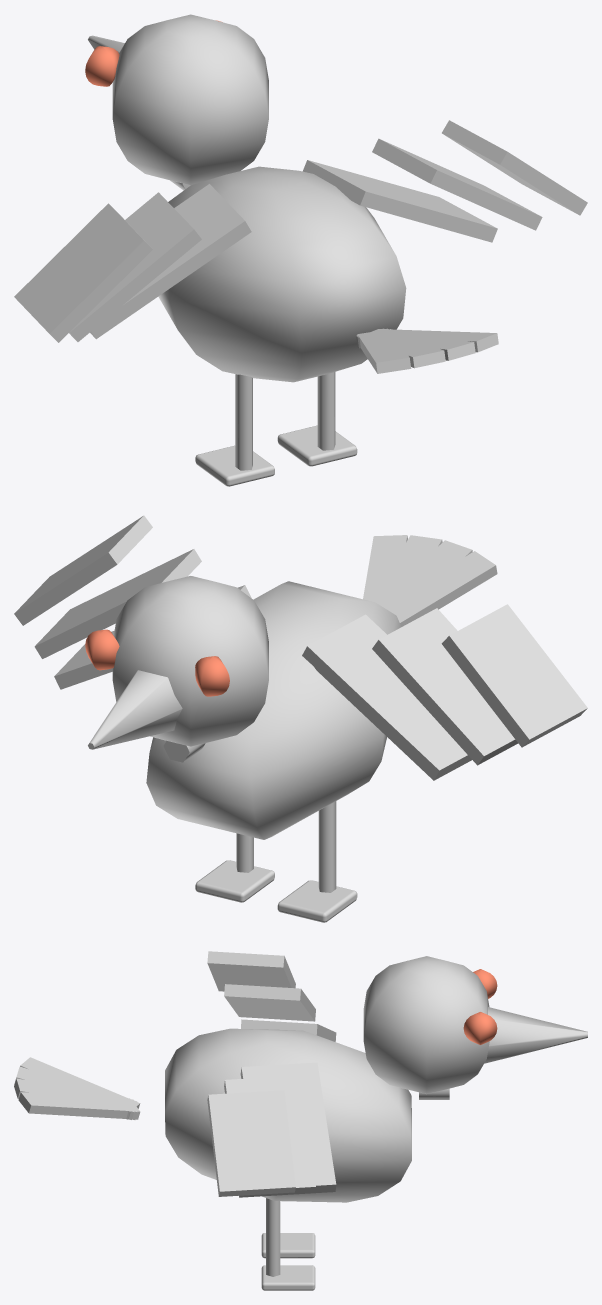
File: ScrapCrow.glb
The picture shows the model from 3 angles, top to bottom: view 1: azimuth 30°, elevation 25°; view 2: azimuth 150°, elevation 25°; view 3: azimuth 270°, elevation 25°; orthographic projection. The views are drawn at different scales.
Visible parts, largest first — view 1: Body, Glow; view 2: Body, Glow; view 3: Body, Glow.
Part boxes in pixels (box(x1,y1,x2,y2)): Body: box(14, 14, 587, 486); Glow: box(85, 20, 222, 86); Body: box(14, 515, 587, 922); Glow: box(85, 629, 229, 696); Body: box(14, 951, 587, 1290); Glow: box(463, 969, 497, 1044).
Bounding box in the file's own units: 3.27 × 2.18 × 3.74.
